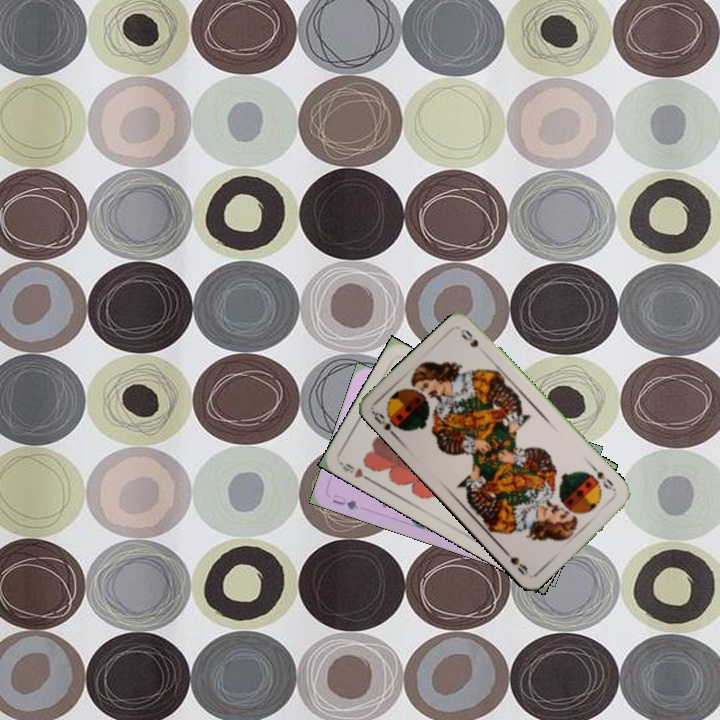GU: (328, 490, 360, 512)
H9: (336, 458, 374, 484)
SO: (369, 407, 406, 441), (586, 461, 618, 494)
